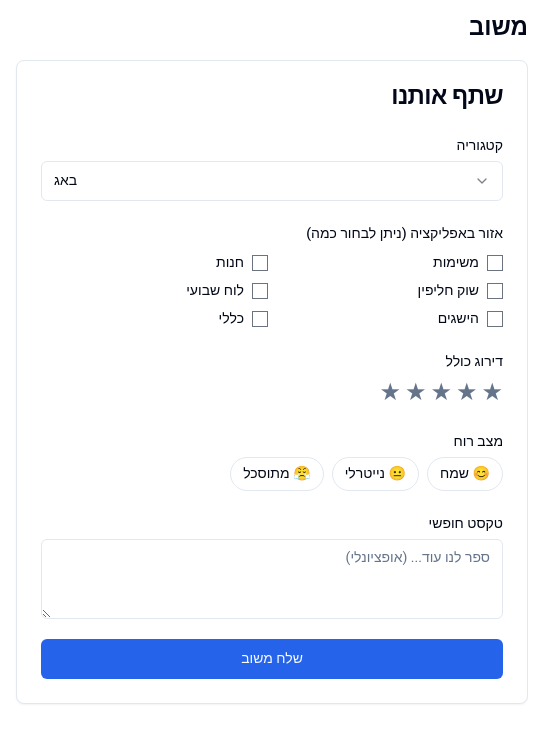
FeedbackPage › shows validation error when submitting without star rating
Step 1. Click the button "😊 שמח" → (465, 474), box left=427, top=457, right=503, bottom=491
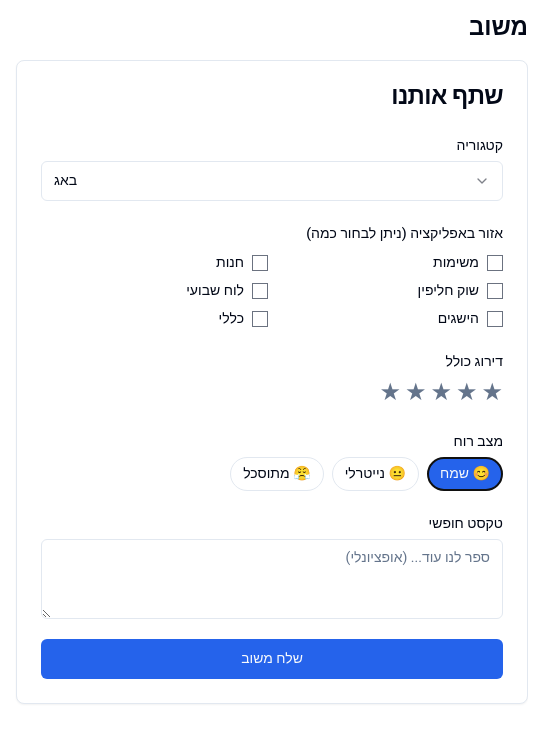
Step 2. Click the button "שלח משוב" → (272, 659), box left=41, top=639, right=503, bottom=679
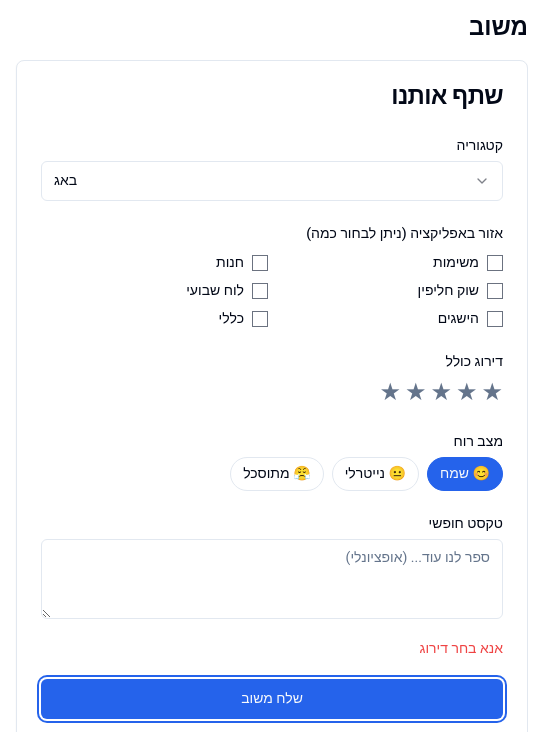
Check: the message reads "אנא בחר דירוג", box left=420, top=638, right=503, bottom=659
